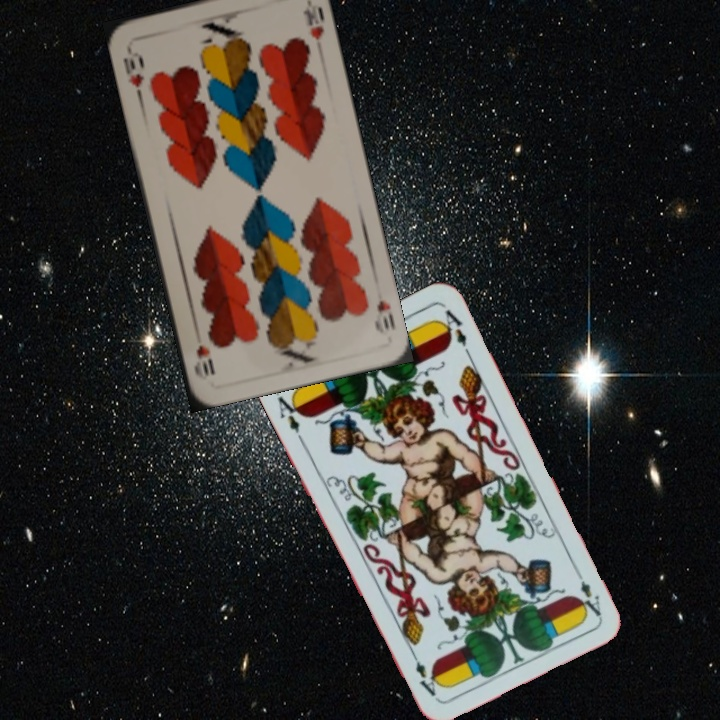EA: (271, 388, 307, 443), (570, 563, 604, 619)
H10: (119, 41, 147, 100), (370, 295, 398, 337)
